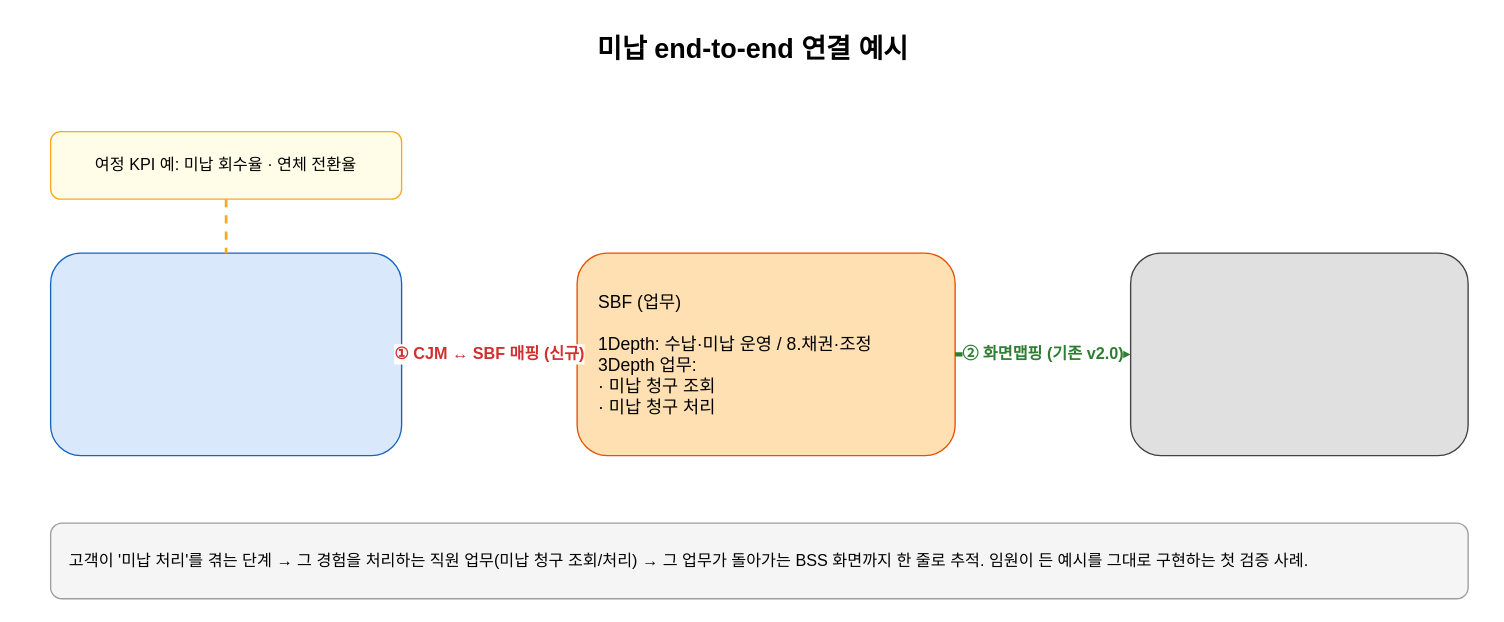
Some shapes in this 1504 by 622 pixel diagram are drawn without their labels. The shapes that lost their labels are listed below. From the top down, each one's centre as x and y in pixels, then its label:
the point at 225,354: CJM (고객) L1 서비스 이용 ▸ L2 요금/납부 관리 ▸ L3/L4 미납 처리
the point at 1298,354: BSS (시스템) 미납/청구 관련 화면 UI Pgm ID (예: ZxxxBILxxx)
